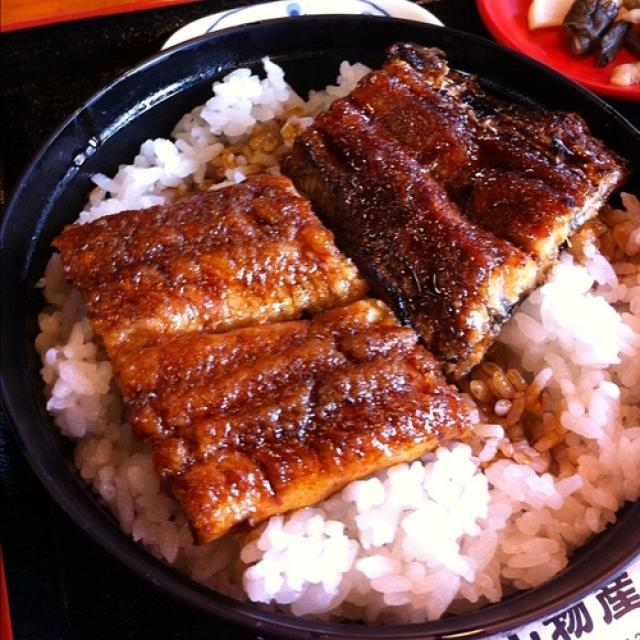熟制海鲜: (18, 15, 635, 613)
